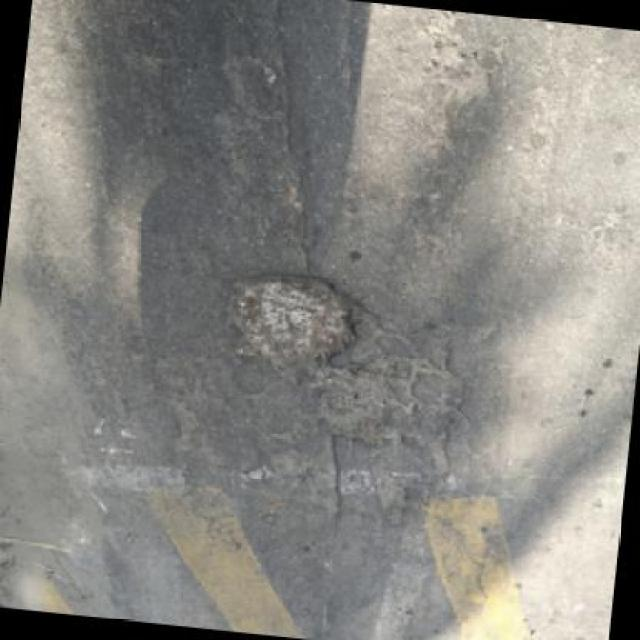pothole: (212, 265, 368, 383), (306, 364, 406, 451)
